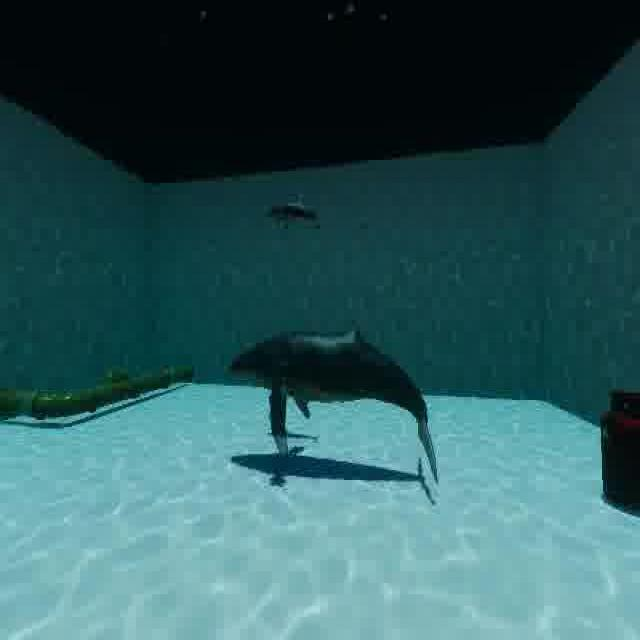Cylinder: (598, 378, 640, 532)
Pipe: (0, 359, 207, 425)
Whale: (217, 308, 463, 500), (258, 187, 329, 239)
